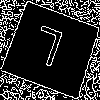L: (26, 24, 66, 77)
